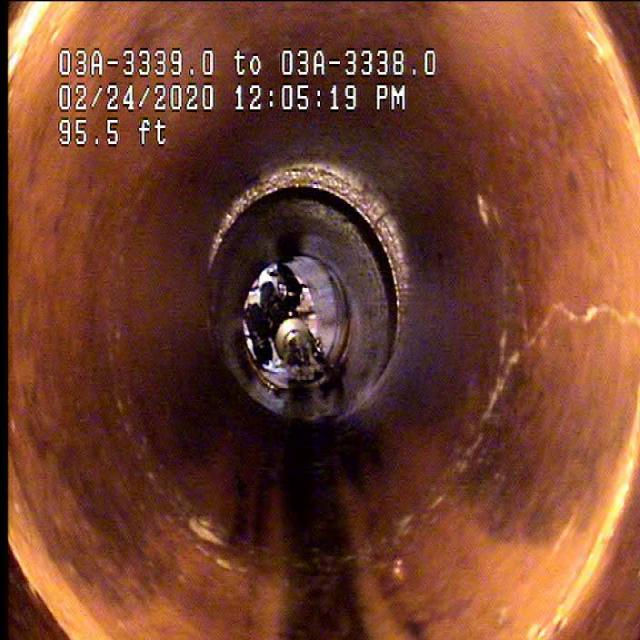Crack: (406, 279, 573, 556)
